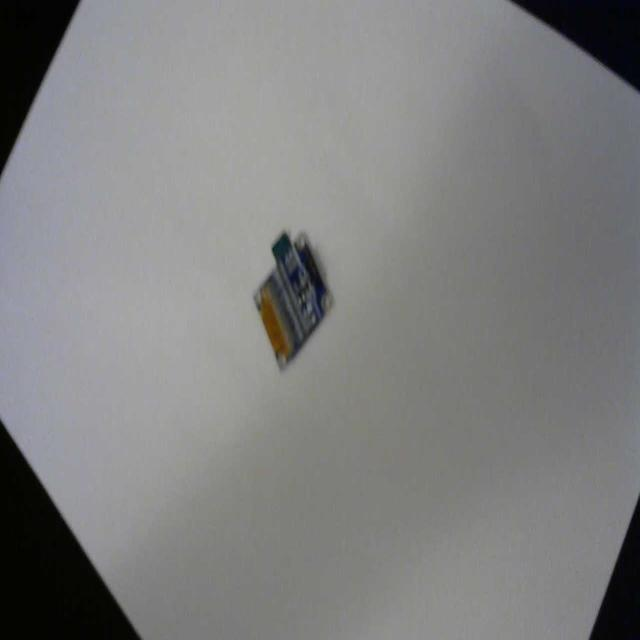oled: (250, 220, 336, 372)
